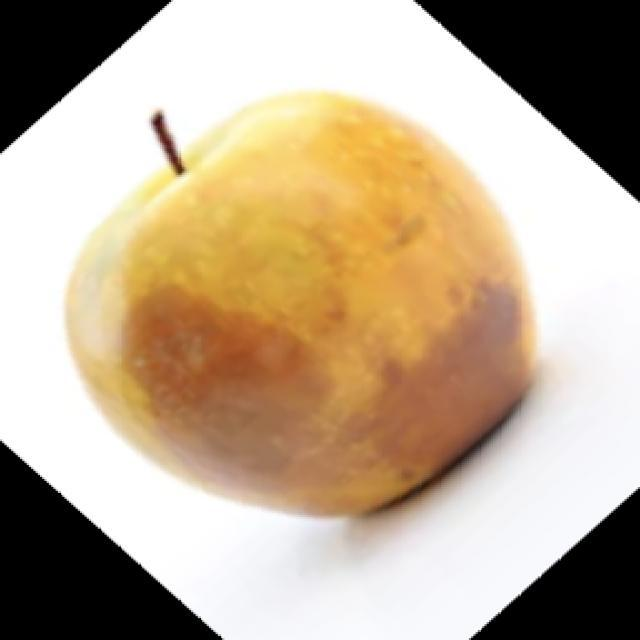Rotten: (84, 73, 528, 502)
